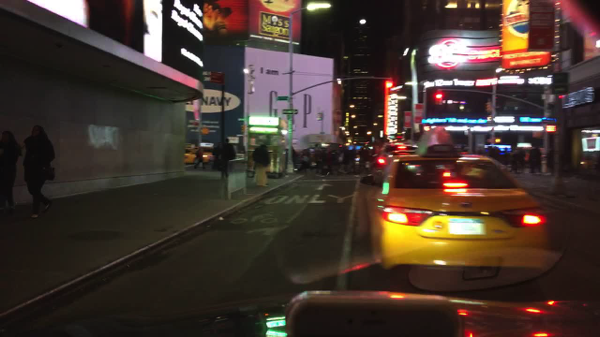car: (360, 144, 562, 294), (374, 141, 418, 181), (198, 143, 214, 164), (183, 143, 199, 164)
person: (22, 121, 58, 223), (1, 130, 24, 220), (252, 143, 271, 188), (223, 136, 237, 180), (528, 146, 543, 176), (211, 140, 225, 170), (346, 146, 356, 176), (194, 145, 204, 168), (299, 153, 309, 176), (325, 150, 333, 174), (510, 152, 519, 173), (292, 147, 300, 169), (314, 148, 321, 171), (343, 146, 349, 169), (519, 150, 526, 169), (333, 149, 339, 169), (309, 151, 315, 169)
traffic light: (546, 126, 554, 131), (386, 80, 391, 87), (557, 94, 563, 99), (435, 94, 440, 97)
traffic sign: (551, 71, 569, 83), (550, 82, 568, 94), (210, 73, 223, 83), (282, 109, 297, 115), (275, 96, 289, 101)
